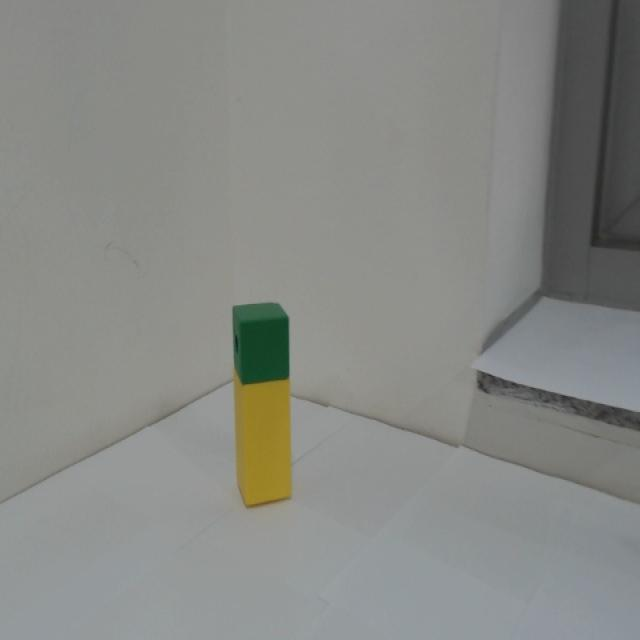cube: (224, 296, 301, 386)
